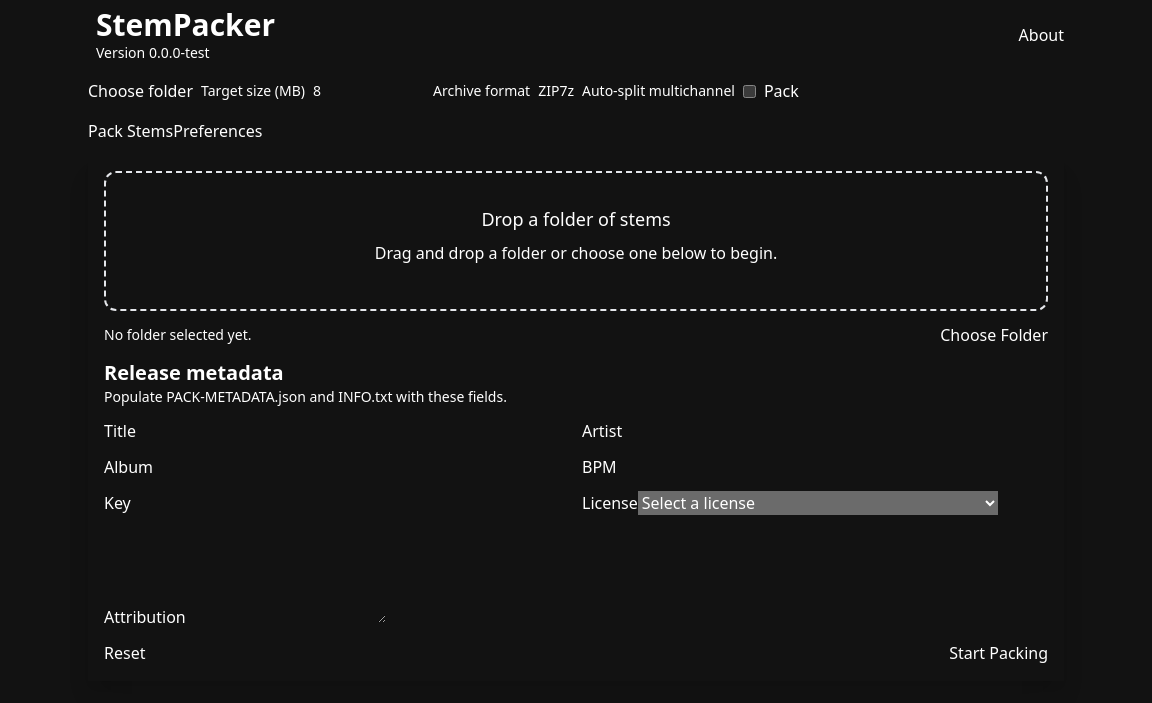
Test: multichannel split decision flow › allows enabling mono splits directly from the dialog
What coordinates should you click on to do the following:
click the button "Choose Folder"
I would click on:
 (994, 335)
Its box is [940,323,1048,347].
(page scrolled)
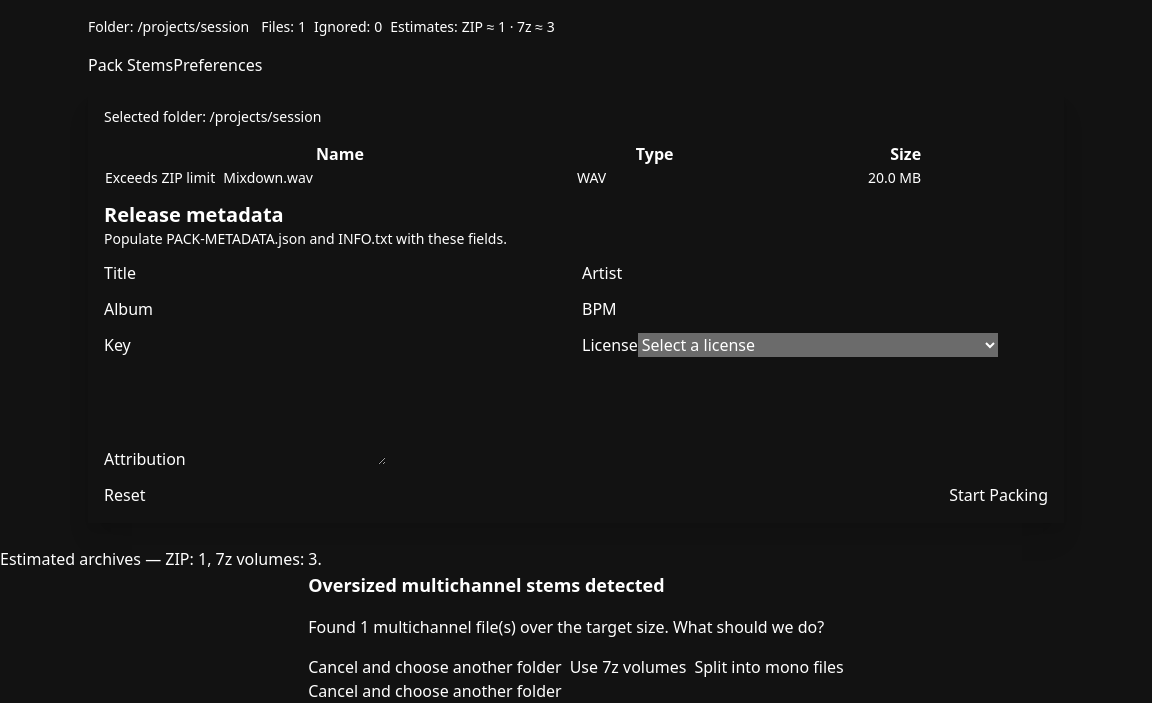
Expected: the text "Oversized multichannel stems detected" is shown, [308,573,664,597]
What coordinates should you click on to do the following:
click the button "Split into mono files"
I would click on:
 (769, 667)
Its box is [694,655,844,679].
(page scrolled)
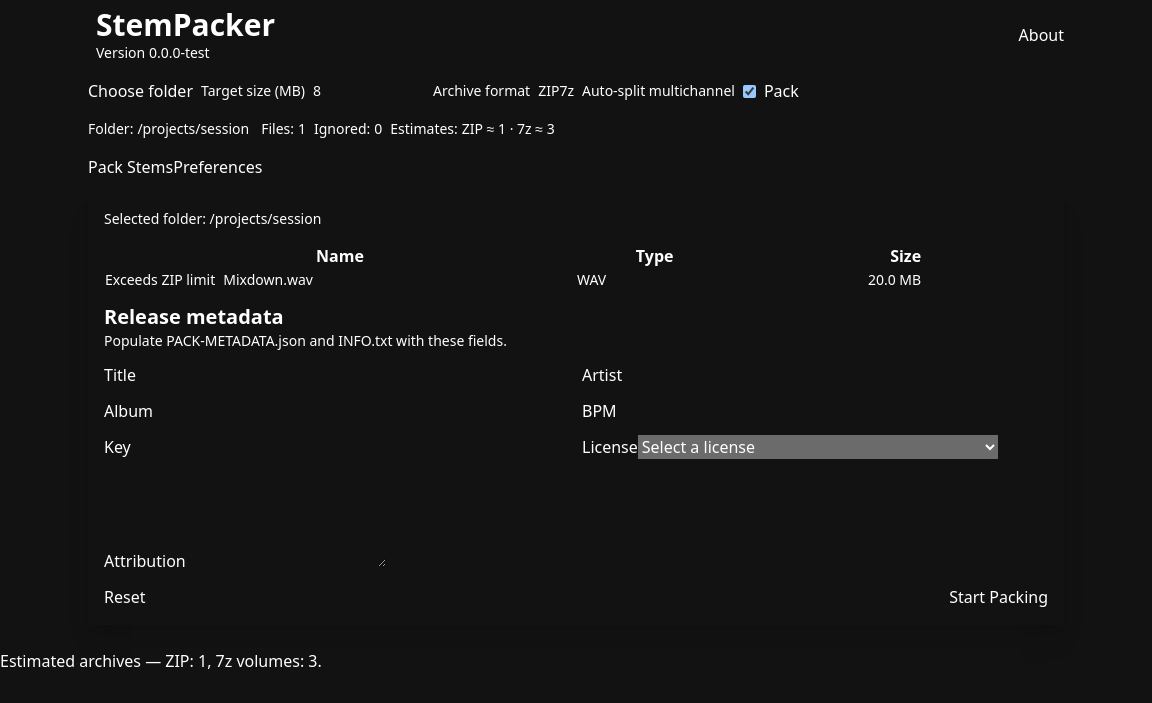
Expected: the heading "Oversized multichannel stems detected" is gone
